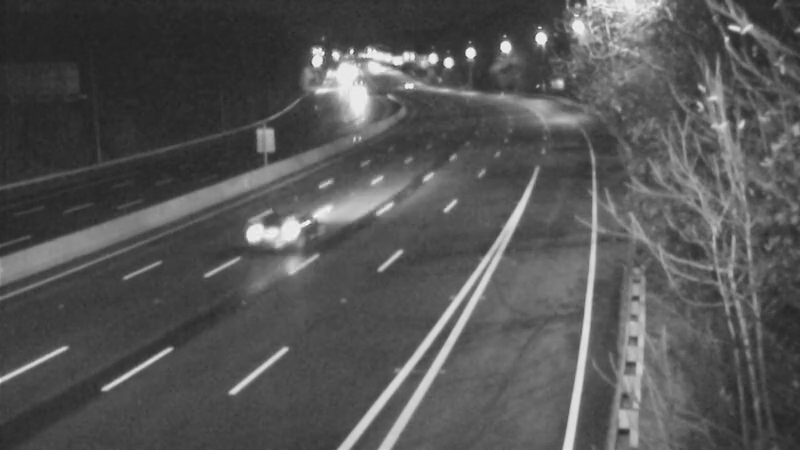vehicle: (237, 186, 317, 266), (382, 60, 432, 110), (328, 76, 378, 126)
